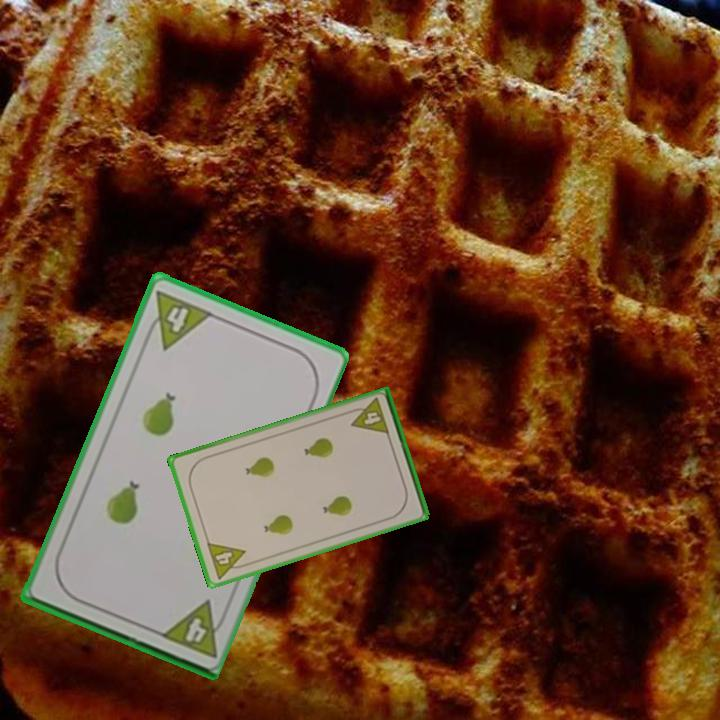4p: (139, 286, 215, 353), (155, 597, 231, 661), (203, 539, 252, 582), (345, 394, 392, 438)
